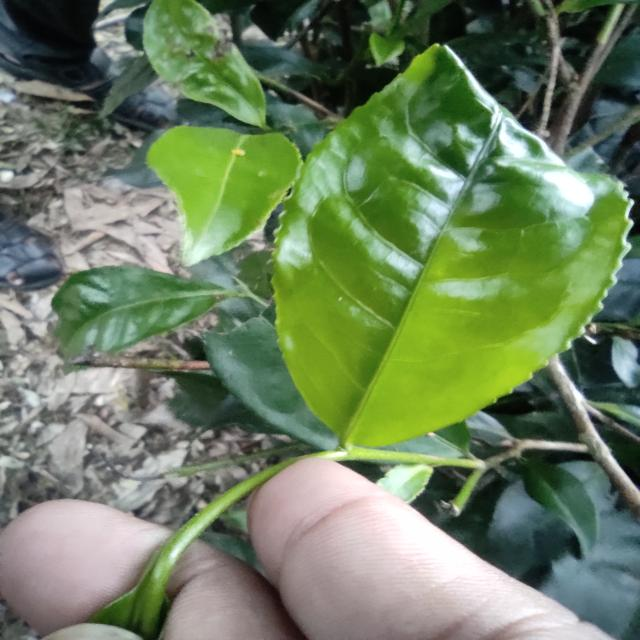Category C(4-7 days): (224, 14, 640, 491)
